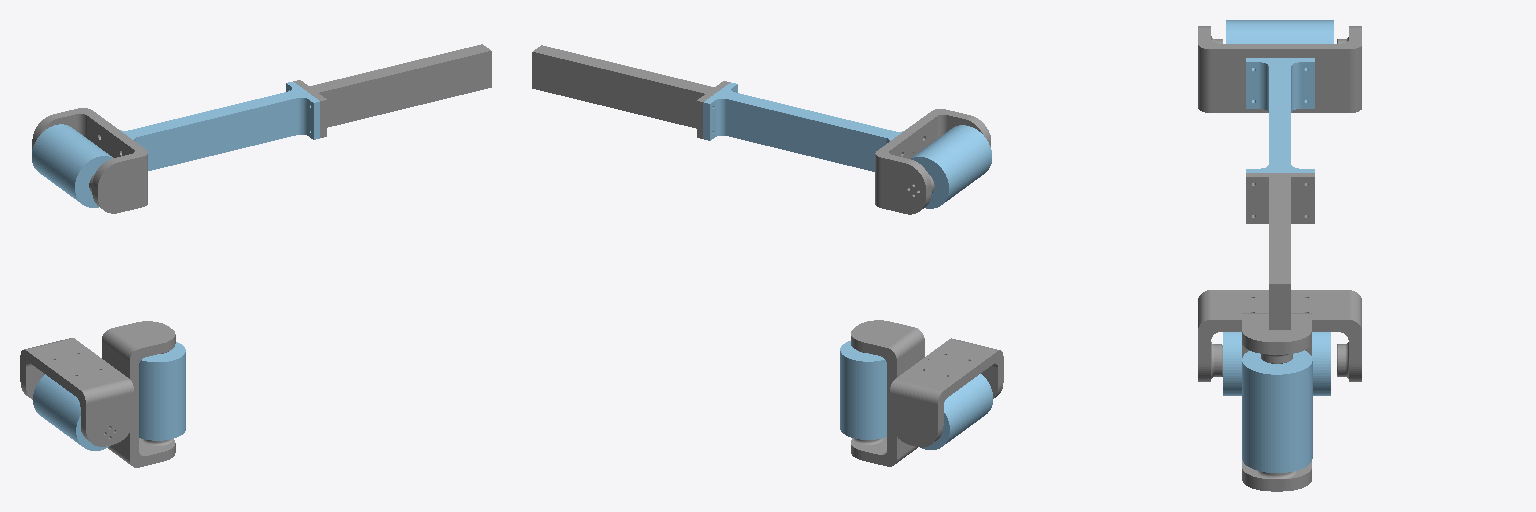
robot.urdf — spider-description:
<?xml version="1.0" ?>
<!-- Generated using onshape-to-robot -->
<!-- Onshape https://cad.onshape.com/documents/238e8faca9c7214bccace665/w/ac168b104948c1f839976186/e/24599102151386cccc6b72ba -->
<robot name="spider-description">
  <!-- Link motor_holder -->
  <link name="motor_holder">
    <inertial>
      <origin xyz="0 0 0" rpy="0 0 0"/>
      <mass value="0"/>
      <inertia ixx="0" ixy="0" ixz="0" iyy="0" iyz="0" izz="0"/>
    </inertial>
    <!-- Part motor_holder -->
    <visual>
      <origin xyz="-0.07 -0.027 1.38778e-17" rpy="-3.14159 -1.5708 0"/>
      <geometry>
        <mesh filename="package://spider-description/assets/motor_holder.stl"/>
      </geometry>
      <material name="motor_holder_material">
        <color rgba="0.615686 0.811765 0.929412 1"/>
      </material>
    </visual>
    <collision>
      <origin xyz="-0.07 -0.027 1.38778e-17" rpy="-3.14159 -1.5708 0"/>
      <geometry>
        <mesh filename="package://spider-description/assets/motor_holder.stl"/>
      </geometry>
    </collision>
    <!-- Part motor_model -->
    <visual>
      <origin xyz="-1.38778e-17 -0.106278 -0.108" rpy="0 -0 -1.5708"/>
      <geometry>
        <mesh filename="package://spider-description/assets/motor_model.stl"/>
      </geometry>
      <material name="motor_model_material">
        <color rgba="0.615686 0.811765 0.929412 1"/>
      </material>
    </visual>
    <collision>
      <origin xyz="-1.38778e-17 -0.106278 -0.108" rpy="0 -0 -1.5708"/>
      <geometry>
        <mesh filename="package://spider-description/assets/motor_model.stl"/>
      </geometry>
    </collision>
  </link>
  <!-- Link moving_frame_l -->
  <link name="moving_frame_l">
    <inertial>
      <origin xyz="0.166888 -0.000702224 0.11374" rpy="0 0 0"/>
      <mass value="9.51769"/>
      <inertia ixx="0.0949959" ixy="0.000393819" ixz="0.000302419" iyy="0.1134" iyz="-1.35219e-06" izz="0.10408"/>
    </inertial>
    <!-- Part motor_holder_2 -->
    <visual>
      <origin xyz="0.149 -0.000161803 0.04355" rpy="-1.4383e-16 -4.73317e-30 -1.5708"/>
      <geometry>
        <mesh filename="package://spider-description/assets/motor_holder.stl"/>
      </geometry>
      <material name="motor_holder_2_material">
        <color rgba="0.615686 0.811765 0.929412 1"/>
      </material>
    </visual>
    <collision>
      <origin xyz="0.149 -0.000161803 0.04355" rpy="-1.4383e-16 -4.73317e-30 -1.5708"/>
      <geometry>
        <mesh filename="package://spider-description/assets/motor_holder.stl"/>
      </geometry>
    </collision>
    <!-- Part motor_model_2 -->
    <visual>
      <origin xyz="0.228278 0.107838 0.11355" rpy="1.5708 1.5708 0"/>
      <geometry>
        <mesh filename="package://spider-description/assets/motor_model.stl"/>
      </geometry>
      <material name="motor_model_2_material">
        <color rgba="0.615686 0.811765 0.929412 1"/>
      </material>
    </visual>
    <collision>
      <origin xyz="0.228278 0.107838 0.11355" rpy="1.5708 1.5708 0"/>
      <geometry>
        <mesh filename="package://spider-description/assets/motor_model.stl"/>
      </geometry>
    </collision>
    <!-- Part moving_frame_r -->
    <visual>
      <origin xyz="-0.08 0.07 0.11365" rpy="1.5708 1.5708 0"/>
      <geometry>
        <mesh filename="package://spider-description/assets/moving_frame_r.stl"/>
      </geometry>
      <material name="moving_frame_r_material">
        <color rgba="0.647059 0.647059 0.647059 1"/>
      </material>
    </visual>
    <collision>
      <origin xyz="-0.08 0.07 0.11365" rpy="1.5708 1.5708 0"/>
      <geometry>
        <mesh filename="package://spider-description/assets/moving_frame_r.stl"/>
      </geometry>
    </collision>
    <!-- Part moving_frame_l -->
    <visual>
      <origin xyz="-0.08 0.07 0.11345" rpy="1.5708 1.5708 0"/>
      <geometry>
        <mesh filename="package://spider-description/assets/moving_frame_l.stl"/>
      </geometry>
      <material name="moving_frame_l_material">
        <color rgba="0.647059 0.647059 0.647059 1"/>
      </material>
    </visual>
    <collision>
      <origin xyz="-0.08 0.07 0.11345" rpy="1.5708 1.5708 0"/>
      <geometry>
        <mesh filename="package://spider-description/assets/moving_frame_l.stl"/>
      </geometry>
    </collision>
  </link>
  <!-- Link moving_frame_l_2 -->
  <link name="moving_frame_l_2">
    <inertial>
      <origin xyz="-0.00012427 -0.438975 -0.113249" rpy="0 0 0"/>
      <mass value="12.6662"/>
      <inertia ixx="0.888548" ixy="-0.000174694" ixz="3.56443e-07" iyy="0.0992591" iyz="0.00208744" izz="0.821886"/>
    </inertial>
    <!-- Part motor_model_3 -->
    <visual>
      <origin xyz="-0.000161803 -0.668278 -0.22155" rpy="-3.07249e-15 -2.42575e-15 -2.5235e-14"/>
      <geometry>
        <mesh filename="package://spider-description/assets/motor_model.stl"/>
      </geometry>
      <material name="motor_model_3_material">
        <color rgba="0.615686 0.811765 0.929412 1"/>
      </material>
    </visual>
    <collision>
      <origin xyz="-0.000161803 -0.668278 -0.22155" rpy="-3.07249e-15 -2.42575e-15 -2.5235e-14"/>
      <geometry>
        <mesh filename="package://spider-description/assets/motor_model.stl"/>
      </geometry>
    </collision>
    <!-- Part femur__limb_legnth_0_4_meter -->
    <visual>
      <origin xyz="-0.000161803 -0.562 -0.11355" rpy="-1.5708 -1.5708 0"/>
      <geometry>
        <mesh filename="package://spider-description/assets/femur__limb_legnth_0_4_meter.stl"/>
      </geometry>
      <material name="femur__limb_legnth_0_4_meter_material">
        <color rgba="0.615686 0.811765 0.929412 1"/>
      </material>
    </visual>
    <collision>
      <origin xyz="-0.000161803 -0.562 -0.11355" rpy="-1.5708 -1.5708 0"/>
      <geometry>
        <mesh filename="package://spider-description/assets/femur__limb_legnth_0_4_meter.stl"/>
      </geometry>
    </collision>
    <!-- Part moving_frame_l_2 -->
    <visual>
      <origin xyz="-0.07 0.08 -0.11345" rpy="3.14159 -1.5708 0"/>
      <geometry>
        <mesh filename="package://spider-description/assets/moving_frame_l.stl"/>
      </geometry>
      <material name="moving_frame_l_2_material">
        <color rgba="0.647059 0.647059 0.647059 1"/>
      </material>
    </visual>
    <collision>
      <origin xyz="-0.07 0.08 -0.11345" rpy="3.14159 -1.5708 0"/>
      <geometry>
        <mesh filename="package://spider-description/assets/moving_frame_l.stl"/>
      </geometry>
    </collision>
    <!-- Part moving_frame_r_2 -->
    <visual>
      <origin xyz="-0.07 0.08 -0.11365" rpy="3.14159 -1.5708 0"/>
      <geometry>
        <mesh filename="package://spider-description/assets/moving_frame_r.stl"/>
      </geometry>
      <material name="moving_frame_r_2_material">
        <color rgba="0.647059 0.647059 0.647059 1"/>
      </material>
    </visual>
    <collision>
      <origin xyz="-0.07 0.08 -0.11365" rpy="3.14159 -1.5708 0"/>
      <geometry>
        <mesh filename="package://spider-description/assets/moving_frame_r.stl"/>
      </geometry>
    </collision>
    <!-- Part motor_holder_3 -->
    <visual>
      <origin xyz="-0.0701618 -0.589 -0.11355" rpy="3.14159 -1.5708 0"/>
      <geometry>
        <mesh filename="package://spider-description/assets/motor_holder.stl"/>
      </geometry>
      <material name="motor_holder_3_material">
        <color rgba="0.615686 0.811765 0.929412 1"/>
      </material>
    </visual>
    <collision>
      <origin xyz="-0.0701618 -0.589 -0.11355" rpy="3.14159 -1.5708 0"/>
      <geometry>
        <mesh filename="package://spider-description/assets/motor_holder.stl"/>
      </geometry>
    </collision>
  </link>
  <!-- Link moving_frame_l_3 -->
  <link name="moving_frame_l_3">
    <inertial>
      <origin xyz="0.468863 0.00011439 0.113731" rpy="0 0 0"/>
      <mass value="10.0269"/>
      <inertia ixx="0.0561408" ixy="-0.000188903" ixz="0.000849629" iyy="1.36864" iyz="1.27622e-07" izz="1.33351"/>
    </inertial>
    <!-- Part moving_frame_r_3 -->
    <visual>
      <origin xyz="-0.08 0.07 0.11365" rpy="1.5708 1.5708 0"/>
      <geometry>
        <mesh filename="package://spider-description/assets/moving_frame_r.stl"/>
      </geometry>
      <material name="moving_frame_r_3_material">
        <color rgba="0.647059 0.647059 0.647059 1"/>
      </material>
    </visual>
    <collision>
      <origin xyz="-0.08 0.07 0.11365" rpy="1.5708 1.5708 0"/>
      <geometry>
        <mesh filename="package://spider-description/assets/moving_frame_r.stl"/>
      </geometry>
    </collision>
    <!-- Part toe__limb_legnth_0_5_meter -->
    <visual>
      <origin xyz="0.682 0.000161803 0.11355" rpy="5.843e-28 -1.5708 0"/>
      <geometry>
        <mesh filename="package://spider-description/assets/toe__limb_legnth_0_5_meter.stl"/>
      </geometry>
      <material name="toe__limb_legnth_0_5_meter_material">
        <color rgba="0.647059 0.647059 0.647059 1"/>
      </material>
    </visual>
    <collision>
      <origin xyz="0.682 0.000161803 0.11355" rpy="5.843e-28 -1.5708 0"/>
      <geometry>
        <mesh filename="package://spider-description/assets/toe__limb_legnth_0_5_meter.stl"/>
      </geometry>
    </collision>
    <!-- Part femur__limb_legnth_0_5_meter -->
    <visual>
      <origin xyz="0.662 0.000161803 0.11355" rpy="1.20737e-15 -1.5708 0"/>
      <geometry>
        <mesh filename="package://spider-description/assets/femur__limb_legnth_0_5_meter.stl"/>
      </geometry>
      <material name="femur__limb_legnth_0_5_meter_material">
        <color rgba="0.615686 0.811765 0.929412 1"/>
      </material>
    </visual>
    <collision>
      <origin xyz="0.662 0.000161803 0.11355" rpy="1.20737e-15 -1.5708 0"/>
      <geometry>
        <mesh filename="package://spider-description/assets/femur__limb_legnth_0_5_meter.stl"/>
      </geometry>
    </collision>
    <!-- Part moving_frame_l_3 -->
    <visual>
      <origin xyz="-0.08 0.07 0.11345" rpy="1.5708 1.5708 0"/>
      <geometry>
        <mesh filename="package://spider-description/assets/moving_frame_l.stl"/>
      </geometry>
      <material name="moving_frame_l_3_material">
        <color rgba="0.647059 0.647059 0.647059 1"/>
      </material>
    </visual>
    <collision>
      <origin xyz="-0.08 0.07 0.11345" rpy="1.5708 1.5708 0"/>
      <geometry>
        <mesh filename="package://spider-description/assets/moving_frame_l.stl"/>
      </geometry>
    </collision>
  </link>
  <!-- Joint from moving_frame_l_2 to moving_frame_l_3 -->
  <joint name="1-3" type="revolute">
    <origin xyz="-0.000161803 -0.669 -0.22755" rpy="6.87867e-17 2.6966e-15 3.14159"/>
    <parent link="moving_frame_l_2"/>
    <child link="moving_frame_l_3"/>
    <axis xyz="0 0 1"/>
    <limit effort="10" velocity="10" lower="0" upper="3.14159"/>
  </joint>
  <!-- Joint from moving_frame_l to moving_frame_l_2 -->
  <joint name="1-2" type="revolute">
    <origin xyz="0.229 0.107838 0.11355" rpy="-1.5708 1.4383e-16 -3.64292e-16"/>
    <parent link="moving_frame_l"/>
    <child link="moving_frame_l_2"/>
    <axis xyz="0 0 1"/>
    <limit effort="10" velocity="10" lower="-2.4869e-14" upper="3.14159"/>
  </joint>
  <!-- Joint from motor_holder to moving_frame_l -->
  <joint name="1-1" type="revolute">
    <origin xyz="-2.80687e-17 -0.107 -0.114" rpy="-6.07154e-16 1.44907e-19 -3.14159"/>
    <parent link="motor_holder"/>
    <child link="moving_frame_l"/>
    <axis xyz="0 0 1"/>
    <limit effort="10" velocity="10" lower="0" upper="3.14159"/>
  </joint>
</robot>

--- What the picture shows (computed from the rendered views, not written in the file) ---
3 views of the same robot in one strip: view 1: azimuth 30°, elevation 25°; view 2: azimuth 150°, elevation 25°; view 3: azimuth 270°, elevation 25° (orthographic).
Model spider-description with 4 links and 3 joints (3 revolute), rooted at motor_holder, posed every joint at zero.
Visible links, largest first — view 1: moving_frame_l_3, moving_frame_l_2, moving_frame_l, motor_holder; view 2: moving_frame_l_3, moving_frame_l_2, moving_frame_l, motor_holder; view 3: moving_frame_l_3, moving_frame_l_2, motor_holder, moving_frame_l.
Link boxes in pixels (left/top/right/bottom): moving_frame_l_3: left=32, top=44, right=491, bottom=213; moving_frame_l_2: left=20, top=124, right=133, bottom=446; moving_frame_l: left=33, top=321, right=175, bottom=467; motor_holder: left=139, top=342, right=185, bottom=440; moving_frame_l_3: left=532, top=45, right=990, bottom=214; moving_frame_l_2: left=890, top=125, right=1003, bottom=447; moving_frame_l: left=851, top=320, right=992, bottom=466; motor_holder: left=840, top=341, right=886, bottom=439; moving_frame_l_3: left=1198, top=26, right=1361, bottom=329; moving_frame_l_2: left=1198, top=20, right=1361, bottom=381; motor_holder: left=1242, top=350, right=1312, bottom=472; moving_frame_l: left=1223, top=313, right=1330, bottom=491.
Size in the robot's own frame: 1.25 by 0.3275 by 0.9026 metres.
11 mesh visuals loaded from 7 distinct referenced files (5 binary STL); not drawn: 4 (reference not matched to a file when rendering).
